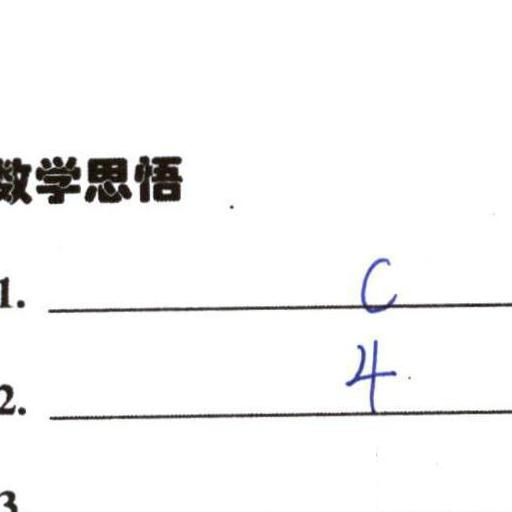ans: (339, 332, 396, 412), (352, 250, 400, 315)
